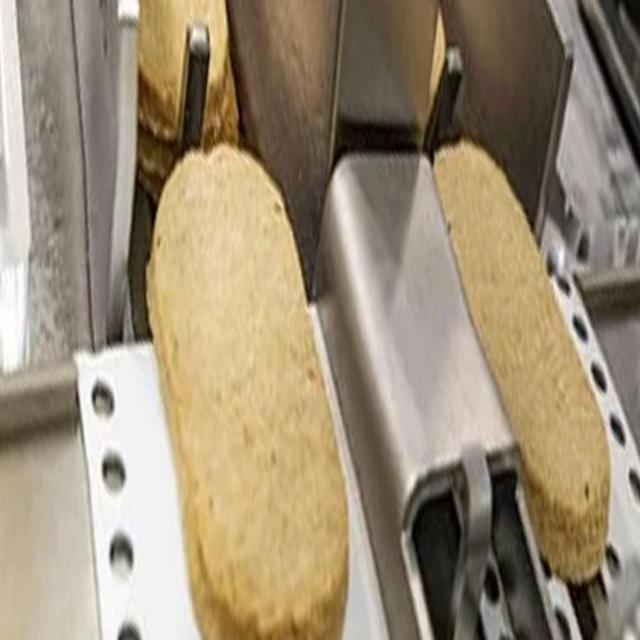food: (143, 140, 352, 638), (428, 135, 613, 587)
